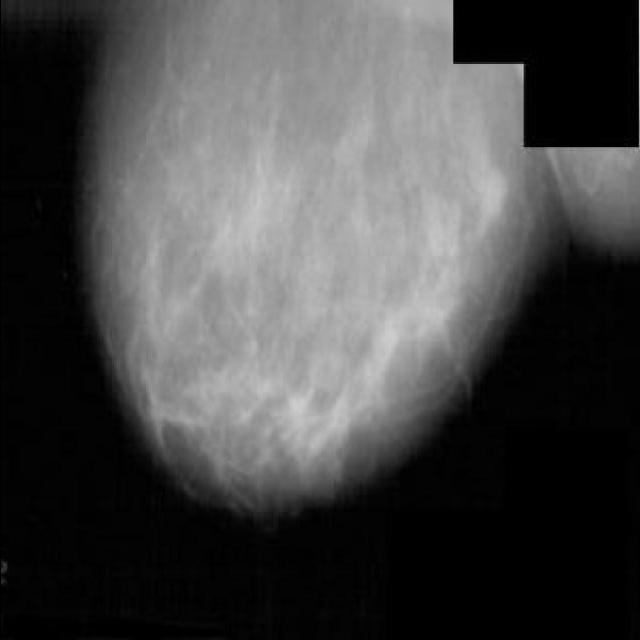tumor: (164, 354, 376, 472), (399, 148, 520, 349)
